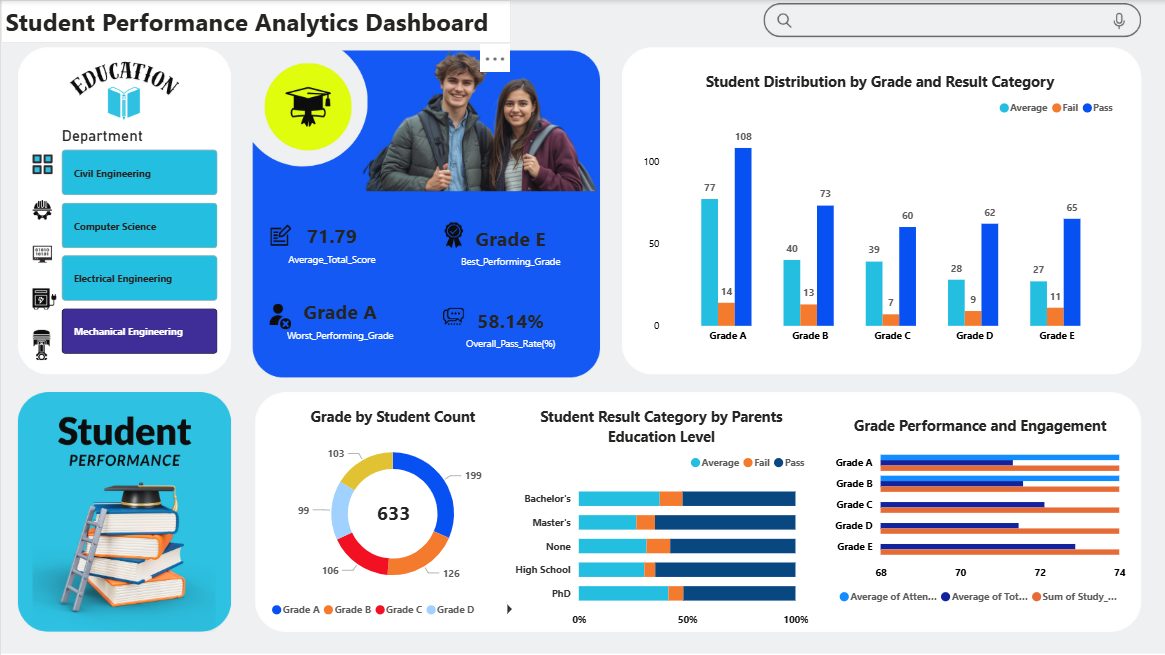

The page's visual inventory and layout, read from the dashboard file:
{"tool":"powerbi","page":{"name":"Page 1","canvas":[1280,720],"ordinal":0},"visuals":[{"type":"textbox","box":[0,0,559.9,46.7],"z":0},{"type":"card","fields":{"Values":["StudentData.Average_Total_Score"]},"box":[281.4,221.4,164.3,92.9],"z":1000},{"type":"card","fields":{"Values":["StudentData.Best_Performing_Grade"]},"box":[477.1,194.3,164.3,150],"z":2000},{"type":"card","fields":{"Values":["StudentData.Worst_Performing_Grade"]},"box":[268.6,292.9,207.1,117.1],"z":3000},{"type":"card","fields":{"Values":["StudentData.Overall_Pass_Rate(%)"]},"box":[474.3,310,170,100],"z":4000},{"type":"clusteredColumnChart","title":"Student Distribution by Grade and Result Category","fields":{"Category":["StudentData.Grade"],"Y":["CountNonNull(StudentData.Student_ID)"],"Series":["StudentData.Final_Result_Category"]},"box":[700,78.6,530,307.1],"z":5000},{"type":"donutChart","title":"Grade by Student Count","fields":{"Category":["StudentData.Grade"],"Y":["CountNonNull(StudentData.Student_ID)"]},"box":[292.9,445.7,275.7,241.4],"z":6000},{"type":"card","fields":{"Values":["StudentData.Total_Student"]},"box":[364.3,492.9,135.7,144.3],"z":7000},{"type":"hundredPercentStackedBarChart","title":"Student Result Category by Parents Education Level","fields":{"Category":["StudentData.Parent_Education_Level"],"Y":["CountNonNull(StudentData.Student_ID)"],"Series":["StudentData.Final_Result_Category"]},"box":[558.6,445.7,332.9,251.4],"z":8000},{"type":"clusteredBarChart","title":"Grade Performance and Engagement ","fields":{"Y":["Avg(StudentData.Attendance (%))","Avg(StudentData.Total_Score)","Sum(StudentData.Study_Hours_per_Week)"],"Category":["StudentData.Grade"]},"box":[910,455.7,330,217.1],"z":9000},{"type":"advancedSlicerVisual","fields":{"Values":["StudentData.Department"]},"box":[61.4,138.6,181.4,258.6],"z":10000}]}

Visuals, with their boxes in screenshot pixels (x1, y1, x2, y2), scaled from the page's 1280x720 canvas onto the 1165x655 screenshot:
textbox: region(0, 0, 510, 42)
card - StudentData.Average_Total_Score: region(256, 201, 406, 286)
card - StudentData.Best_Performing_Grade: region(434, 177, 584, 313)
card - StudentData.Worst_Performing_Grade: region(244, 266, 433, 373)
card - StudentData.Overall_Pass_Rate(%): region(432, 282, 586, 373)
"Student Distribution by Grade and Result Category" clusteredColumnChart: region(637, 72, 1119, 351)
"Grade by Student Count" donutChart: region(267, 405, 518, 625)
card - StudentData.Total_Student: region(332, 448, 455, 580)
"Student Result Category by Parents Education Level" hundredPercentStackedBarChart: region(508, 405, 811, 634)
"Grade Performance and Engagement " clusteredBarChart: region(828, 415, 1129, 612)
advancedSlicerVisual - StudentData.Department: region(56, 126, 221, 361)
